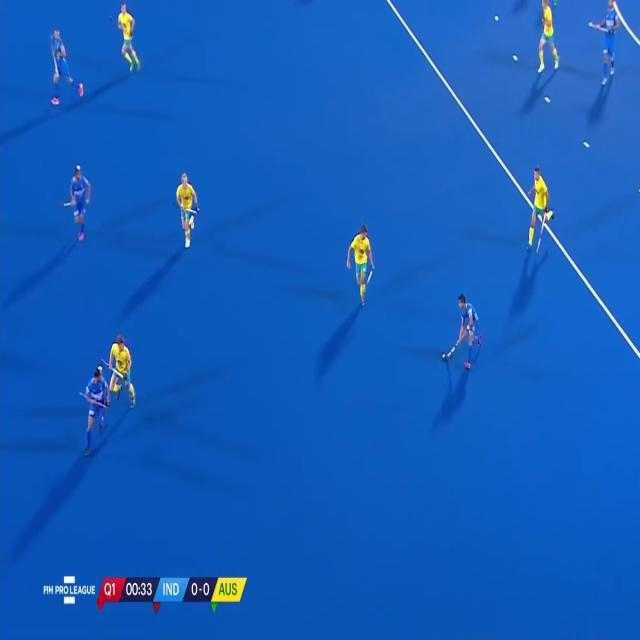ball: (439, 346, 452, 365)
